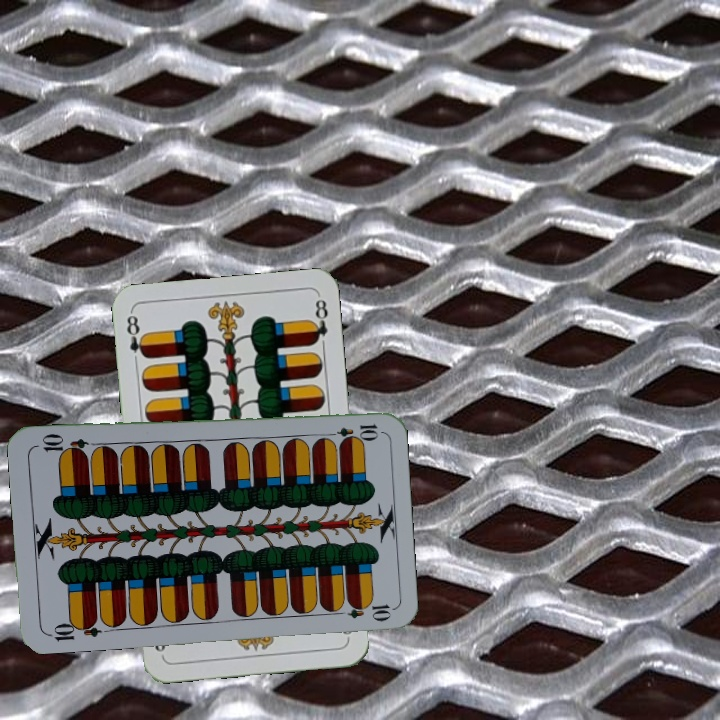E10: (44, 615, 103, 644), (322, 420, 381, 441)
E8: (122, 309, 150, 361)
